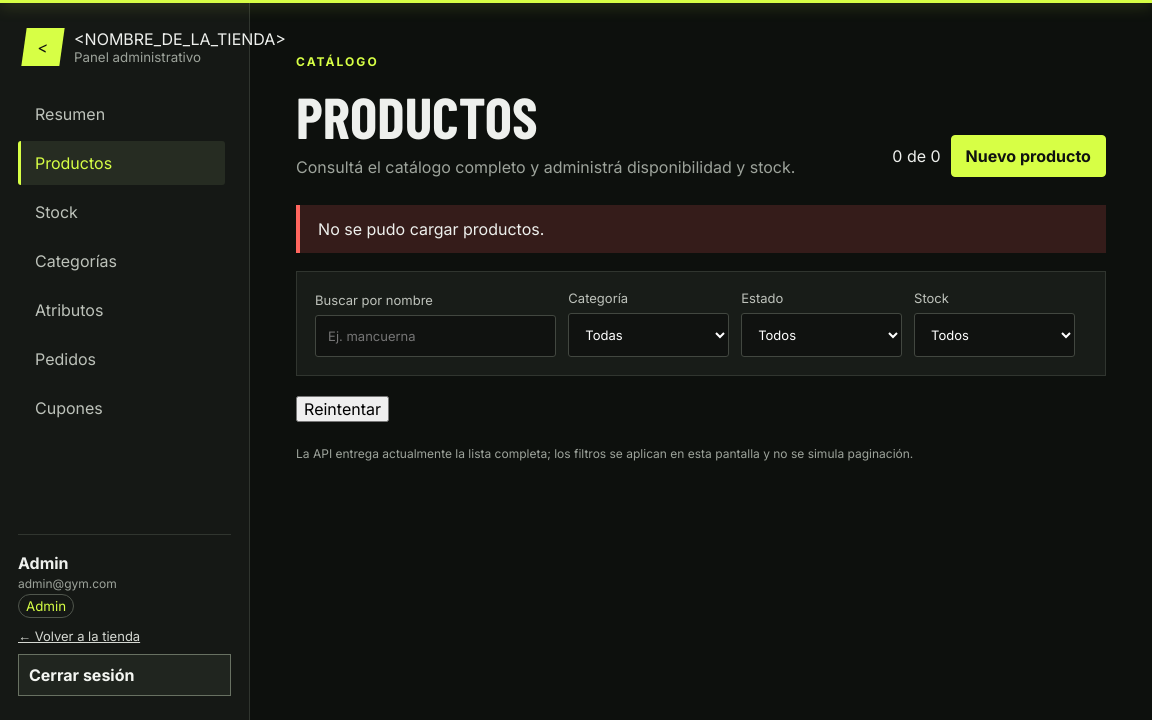
it: panel administrativo › muestra el error de carga inicial y permite reintentar sin confundirlo con una lista vacía
The image size is (1152, 720).
Check: the message reads "No se pudo cargar productos.", box [318, 219, 544, 239]
Click the button "Reintentar" at coordinates (343, 409), box [296, 396, 389, 422]
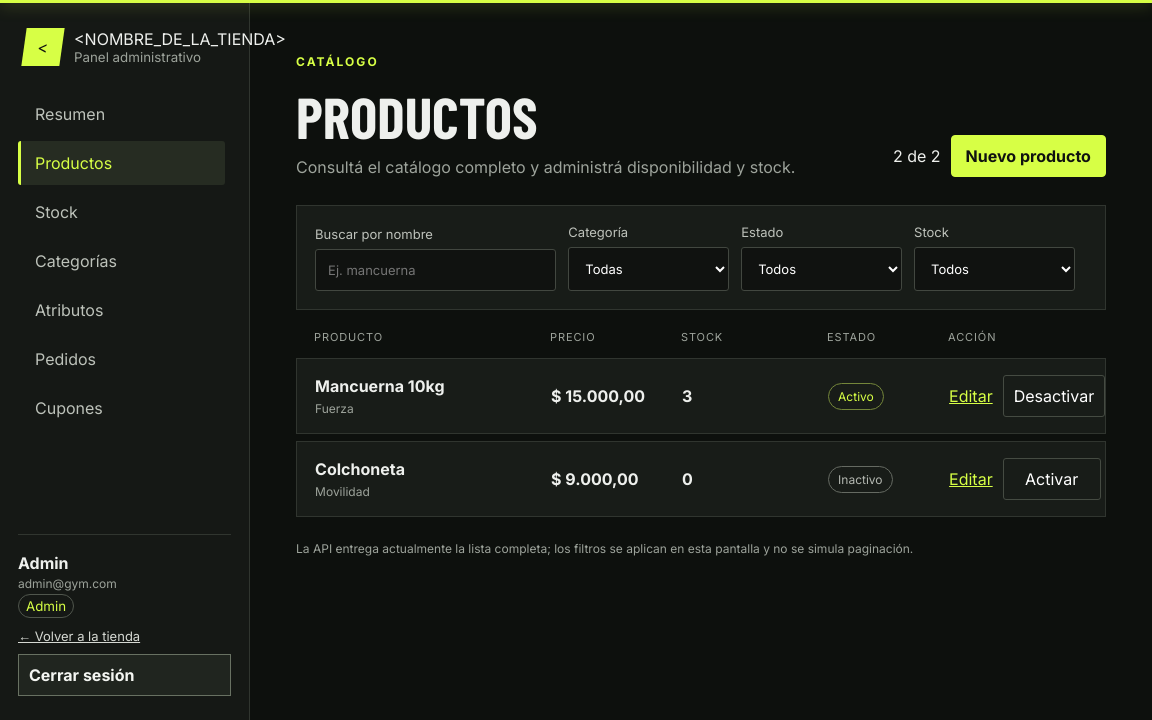
Check: the text "Mancuerna 10kg" is shown, box [315, 376, 445, 396]
Check: the message "No se pudo cargar productos." is gone
